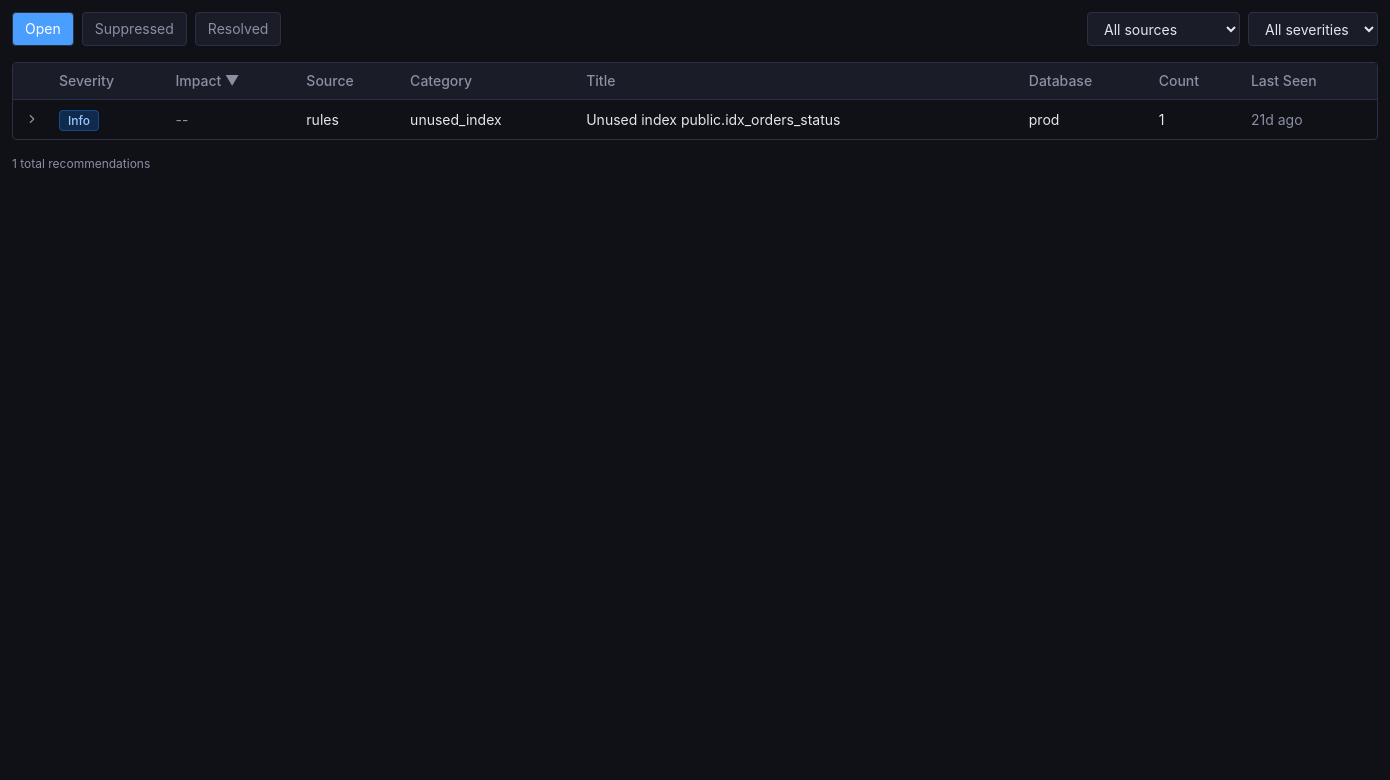
it: Findings detail with binding facts › shows the bound fact and the source-fix packet
Click the button with test id "row-expander" at (32, 119), box [21,108,43,130]
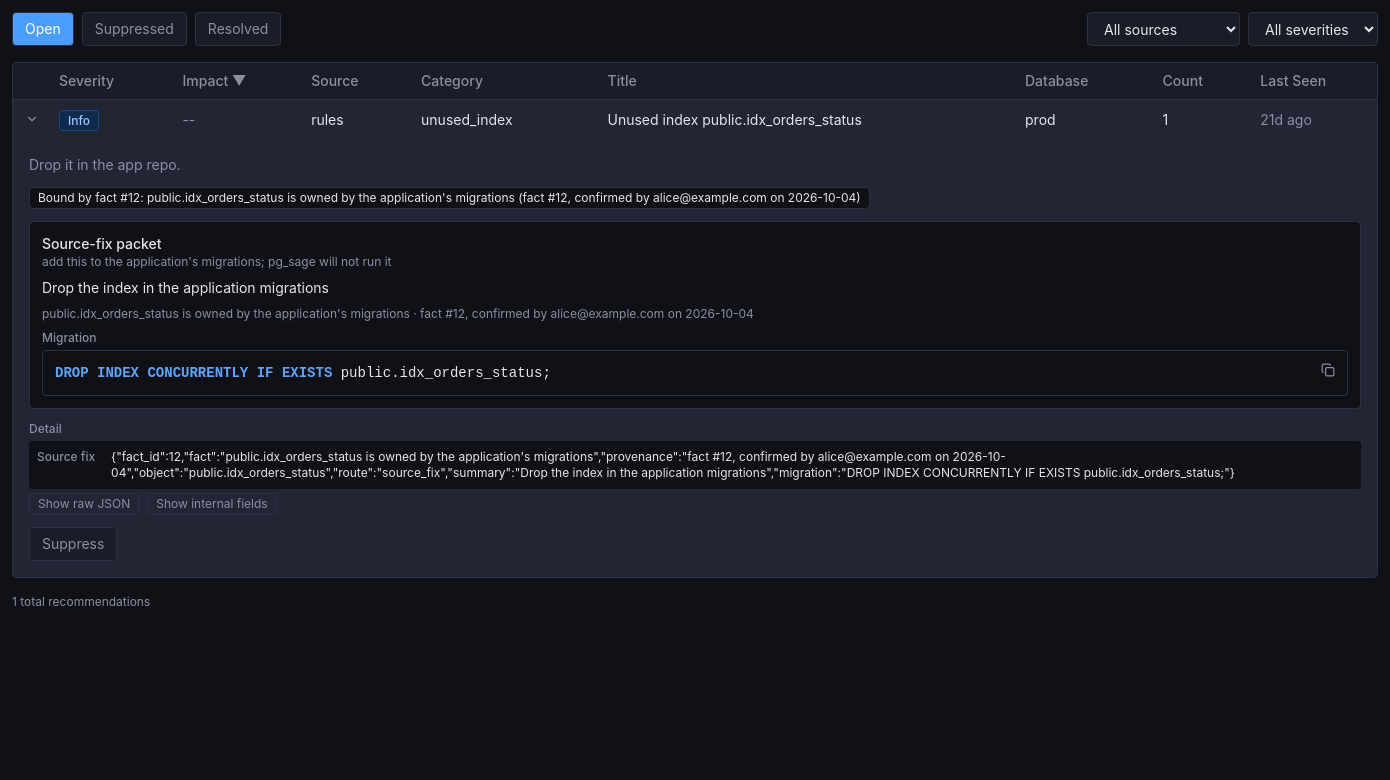
Expected: the text with test id "fact-bound-12" shows "Bound by fact #12", [29,187,870,209]
Expected: the element with test id "source-fix-packet" shows "Drop the index in the application migrations", [42,279,329,296]
